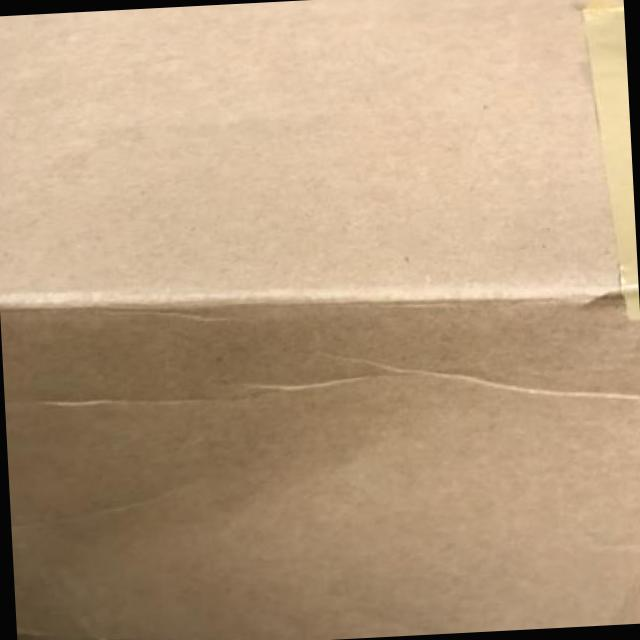cardboard: (0, 0, 639, 639)
paper: (583, 4, 639, 320)
